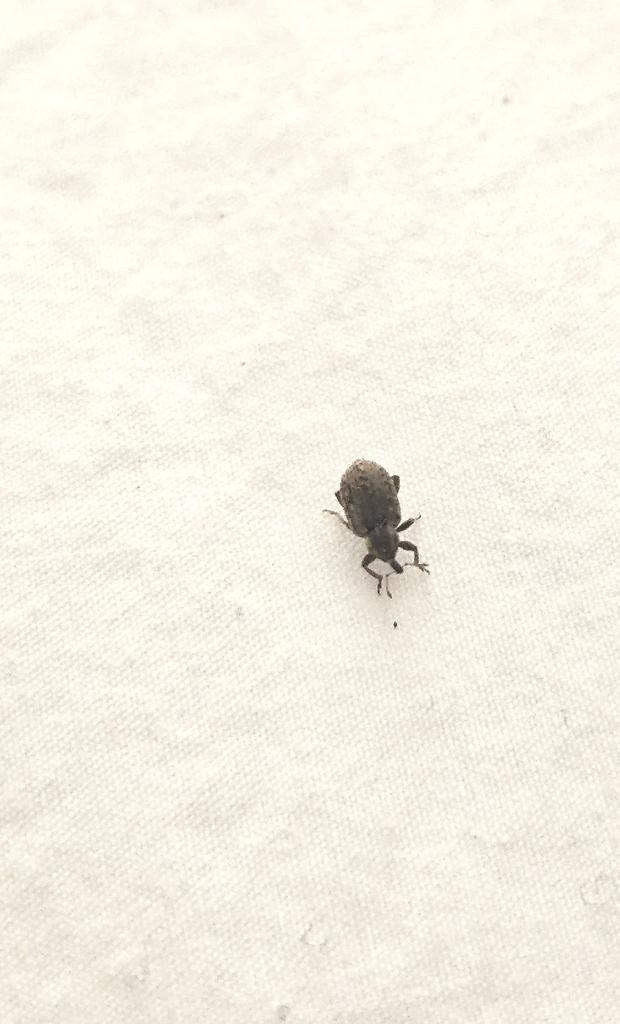weevils: (291, 433, 460, 620)
